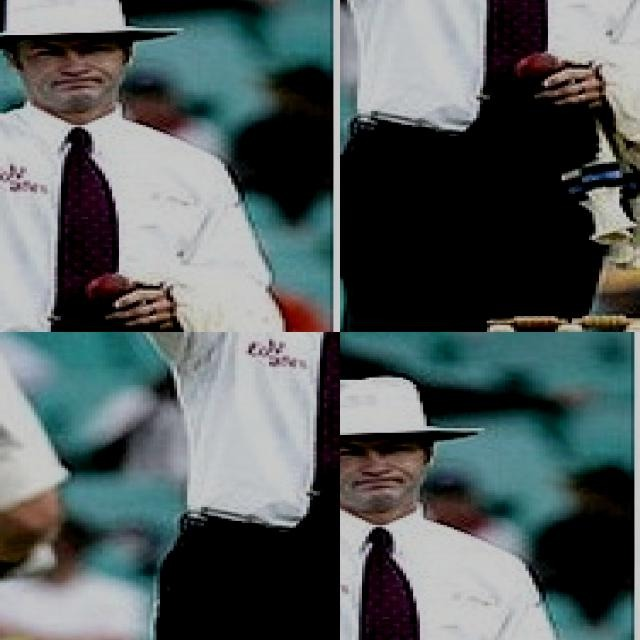Out: (116, 332, 340, 640)
Wide: (0, 0, 340, 252), (340, 481, 640, 640)
